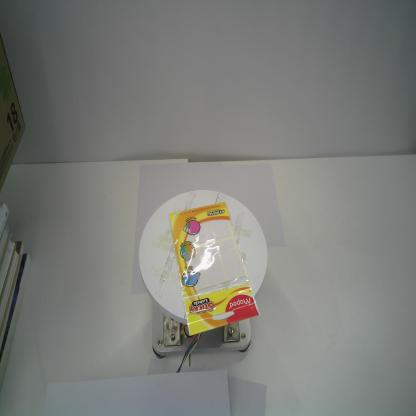Stationery: (168, 199, 261, 339)
